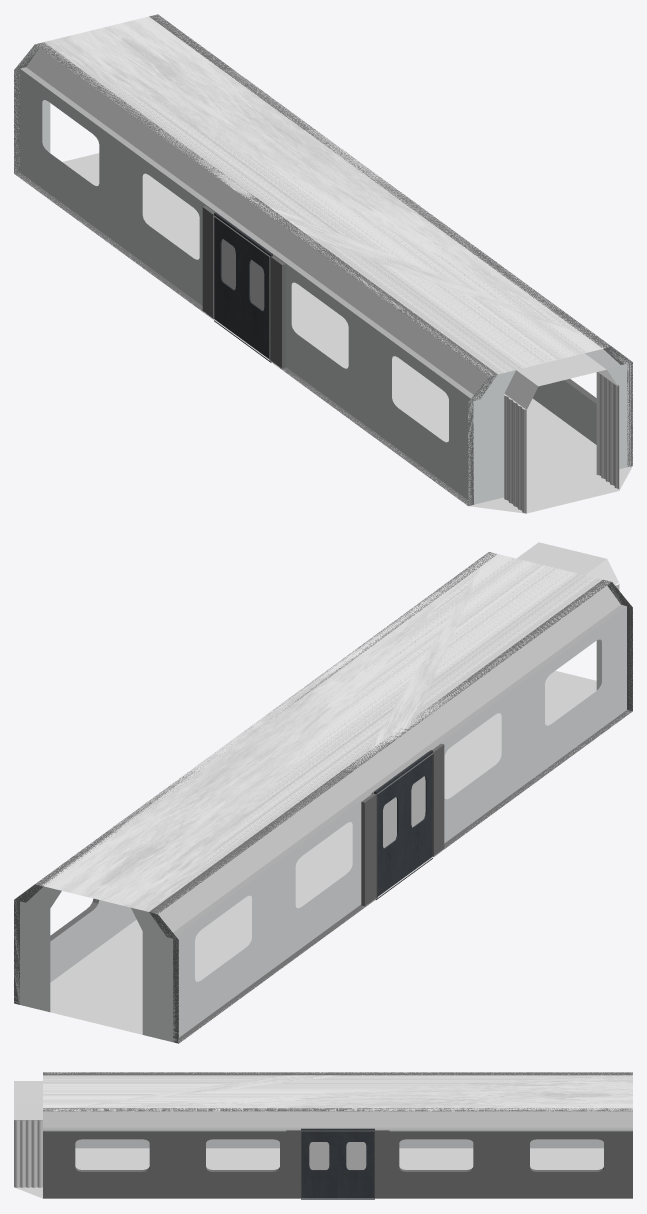
The model's file is Train.fbx.
3 views of the same model, one above another, from view 1: azimuth 30°, elevation 25°; view 2: azimuth 150°, elevation 25°; view 3: azimuth 270°, elevation 25° (orthographic). The views are drawn at different scales.
Parts seen in each view (by area): view 1: Plane, Cube.003, Cube.002; view 2: Plane, Cube.002, Cube.003; view 3: Plane, Cube, Cube.001.
Boxes of the visible parts, box(x1,y1,x2,y2) form: Plane: box(14, 14, 632, 513); Cube.003: box(214, 212, 243, 341); Cube.002: box(242, 233, 272, 362); Plane: box(14, 542, 632, 1043); Cube.002: box(403, 750, 432, 878); Cube.003: box(374, 771, 404, 899); Plane: box(14, 1072, 632, 1198); Cube: box(338, 1128, 374, 1199); Cube.001: box(301, 1128, 337, 1199).
Size of the model in its own units: 1311 by 962 by 6560.
8 materials, 3 textured.
